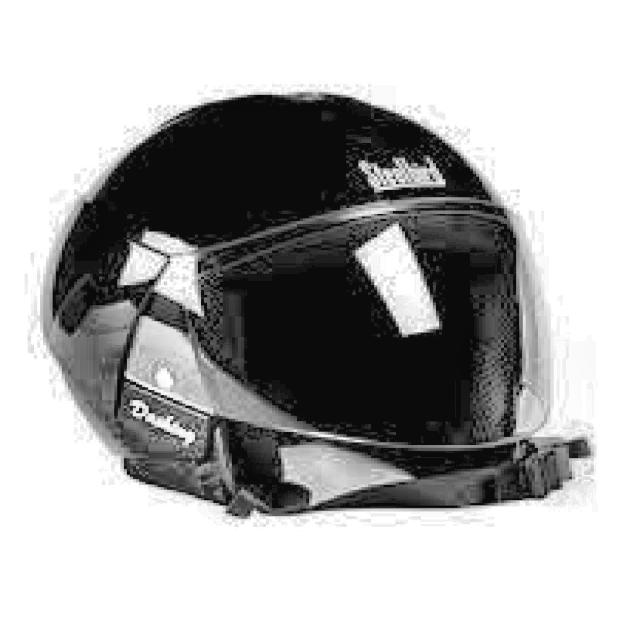Helmet: (38, 76, 597, 524)
